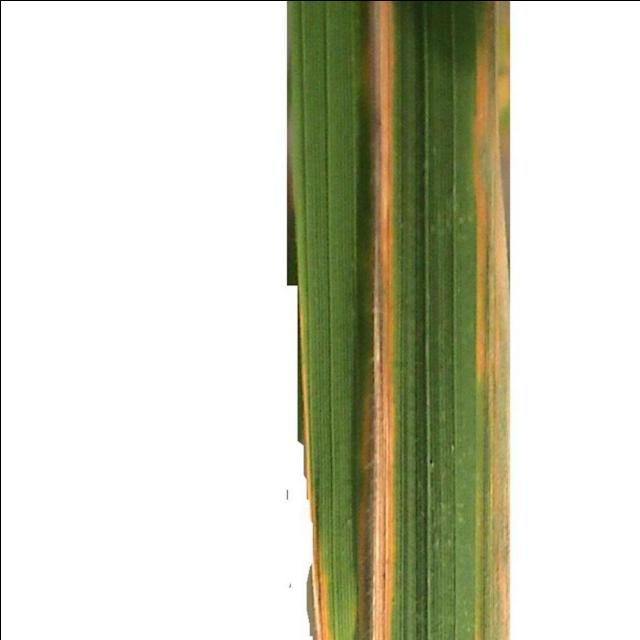Bacterial leaf blight: (342, 0, 425, 640), (465, 0, 510, 640), (290, 541, 341, 640)
